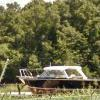Boat: (14, 61, 97, 93)
